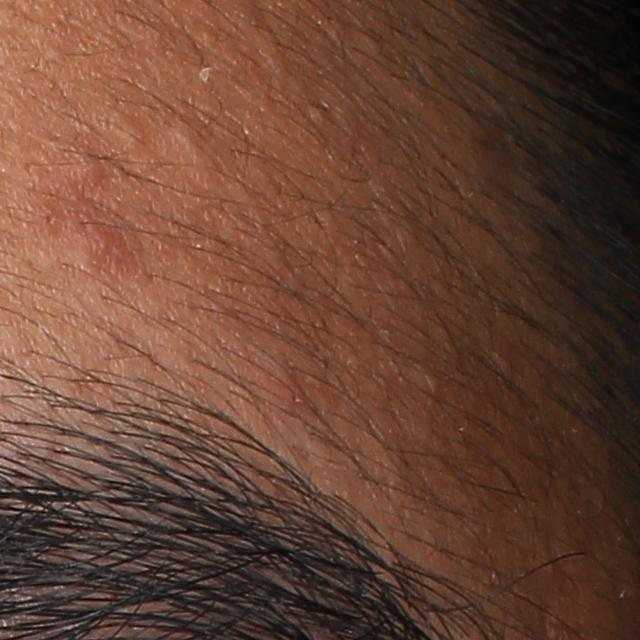comedo: (168, 125, 207, 171), (110, 112, 150, 149)
papule: (70, 212, 134, 262)
